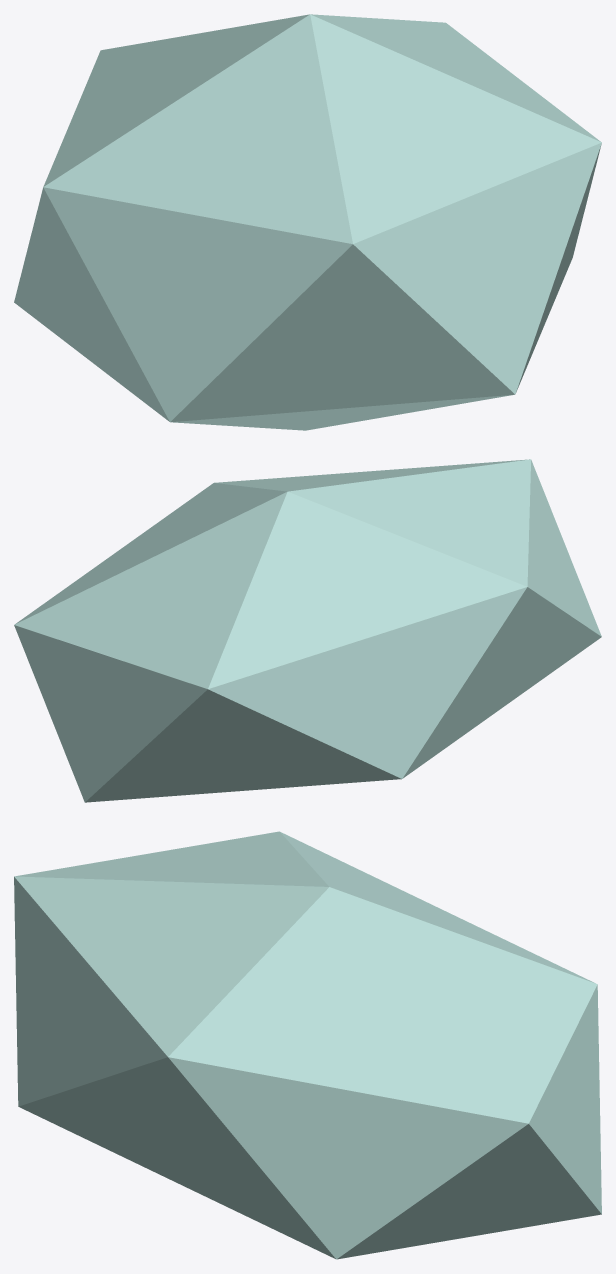
Rendered from SM_Rock_02.fbx.
The picture shows the model from 3 angles, top to bottom: view 1: azimuth 30°, elevation 25°; view 2: azimuth 150°, elevation 25°; view 3: azimuth 270°, elevation 25°; orthographic projection. The views are drawn at different scales.
Visible parts, largest first — view 1: Icosphere.020; view 2: Icosphere.020; view 3: Icosphere.020.
Part boxes in pixels (left/top/right/bottom): Icosphere.020: left=14, top=14, right=601, bottom=430; Icosphere.020: left=14, top=459, right=601, bottom=802; Icosphere.020: left=14, top=831, right=601, bottom=1259.
Bounding box in the file's own units: 152 × 101 × 163.
